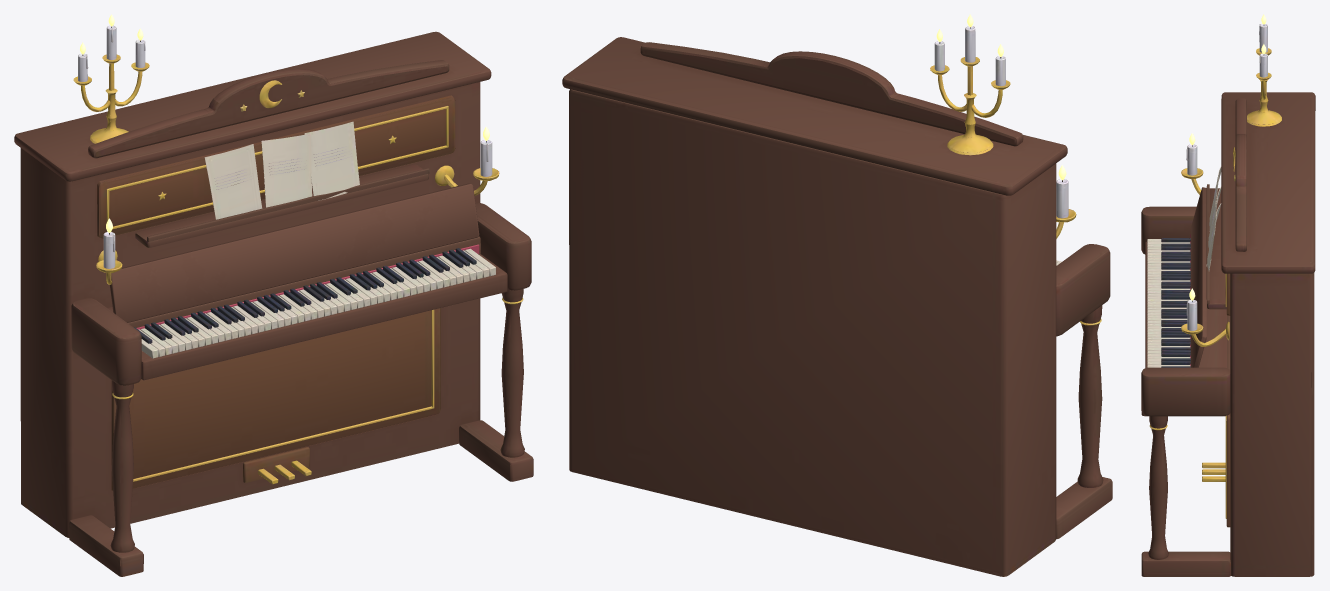
The model's file is piano_viejo.glb.
3 renders of one model, left to right at view 1: azimuth 30°, elevation 25°; view 2: azimuth 150°, elevation 25°; view 3: azimuth 270°, elevation 25°, orthographic. The views are drawn at different scales.
Visible parts, largest first — view 1: old-piano_body; view 2: old-piano_body; view 3: old-piano_body.
Boxes of the visible parts, x1,y1,x2,y2 form: old-piano_body: (14,14,533,576); old-piano_body: (562,14,1112,576); old-piano_body: (1141,14,1315,576).
Bounding box in the file's own units: 1.48 × 1.64 × 0.62.
3 materials, 2 textured.
